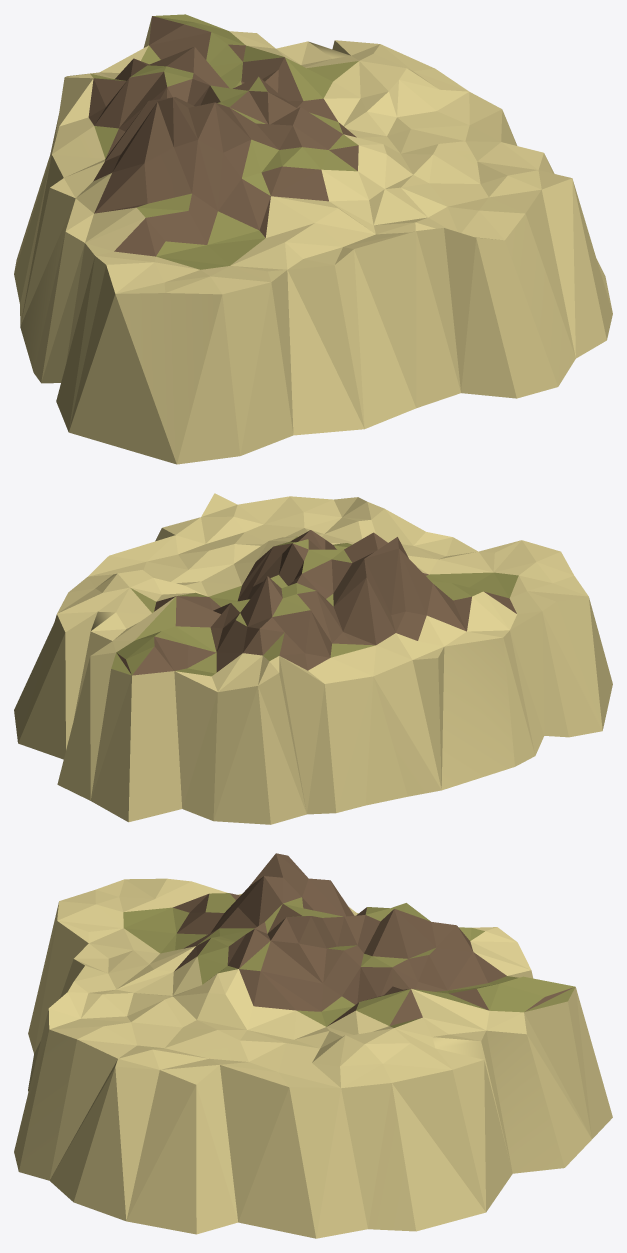
The model's file is rock06.fbx.
3 renders of one model, top to bottom at view 1: azimuth 30°, elevation 25°; view 2: azimuth 150°, elevation 25°; view 3: azimuth 270°, elevation 25°, orthographic. The views are drawn at different scales.
Parts seen in each view (by area): view 1: islet017; view 2: islet017; view 3: islet017.
Part boxes in pixels (x1,y1,x2,y2): islet017: [14, 14, 612, 464]; islet017: [14, 493, 612, 824]; islet017: [14, 853, 612, 1238].
Size of the model in its own units: 2.25 by 2.21 by 0.8917.
